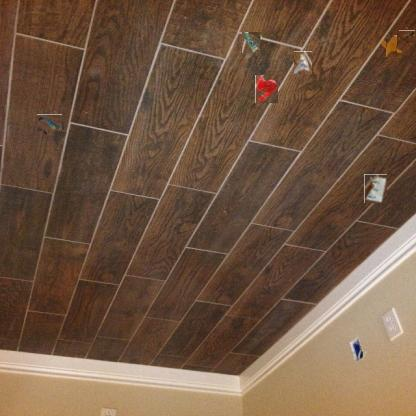dirty: (364, 174, 387, 203), (39, 112, 60, 134), (294, 51, 312, 74), (241, 32, 261, 52), (400, 28, 416, 44)
liquid: (255, 75, 278, 103), (382, 37, 400, 55)
